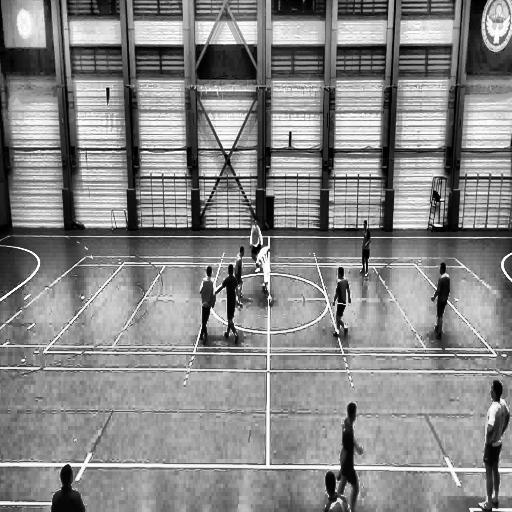ball: (262, 283, 267, 294)
player: (478, 382, 510, 512), (340, 402, 364, 512), (216, 262, 241, 344), (432, 260, 450, 342), (332, 267, 350, 339), (200, 265, 216, 345), (255, 244, 274, 306), (249, 220, 262, 272), (359, 220, 371, 276)
